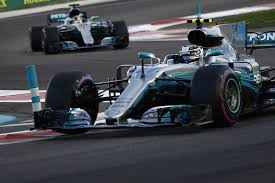FormulaOneCar: (24, 16, 275, 137), (28, 1, 133, 53)
